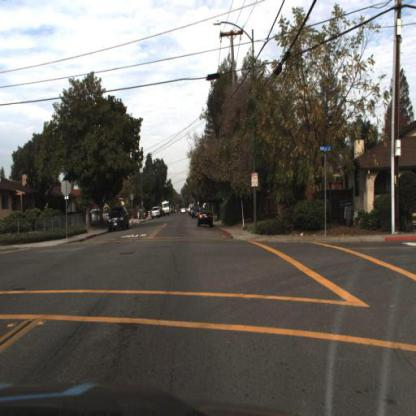car: (103, 203, 129, 234), (104, 204, 129, 232), (195, 204, 214, 229), (195, 203, 213, 228), (148, 203, 162, 220)
